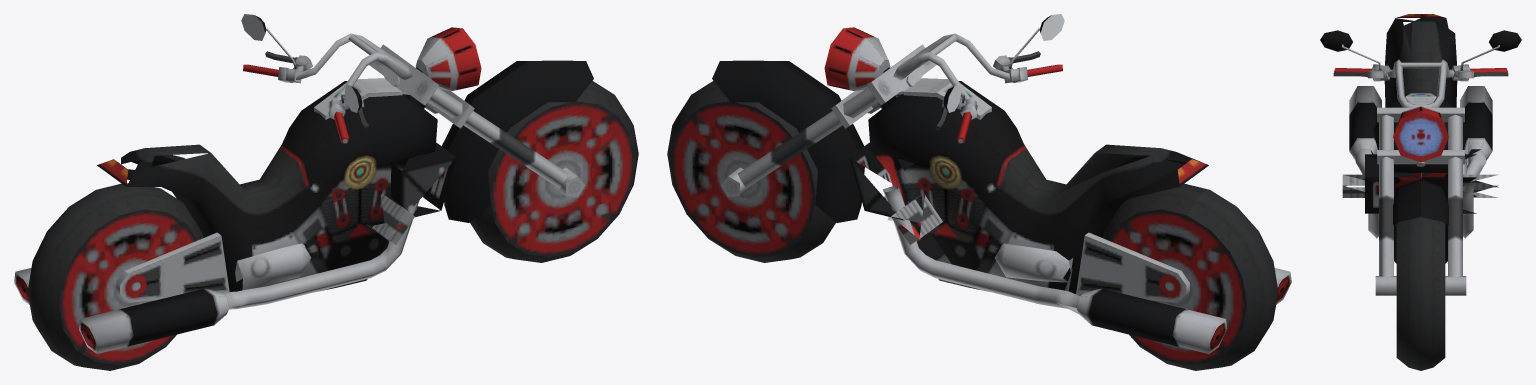
The model's file is bike.glb.
The picture shows the model from 3 angles, left to right: view 1: azimuth 30°, elevation 25°; view 2: azimuth 150°, elevation 25°; view 3: azimuth 270°, elevation 25°; orthographic projection. The views are drawn at different scales.
Parts seen in each view (by area): view 1: Object04, Object06, Object05, Object08, Object07, Object09, Object01; view 2: Object04, Object06, Object05, Object08, Object07, Object09, Object01; view 3: Object04, Object06, Object07, Object01, Object08, Object11, Object09.
Boxes of the visible parts, x1=… form: Object04: x1=14, y1=67, x2=456, y2=353; Object06: x1=470, y1=81, x2=638, y2=262; Object05: x1=27, y1=183, x2=202, y2=370; Object08: x1=442, y1=60, x2=593, y2=222; Object07: x1=369, y1=27, x2=585, y2=197; Object09: x1=116, y1=78, x2=402, y2=302; Object01: x1=241, y1=14, x2=412, y2=143; Object04: x1=849, y1=67, x2=1291, y2=353; Object06: x1=667, y1=81, x2=835, y2=262; Object05: x1=1103, y1=183, x2=1278, y2=370; Object08: x1=712, y1=60, x2=864, y2=222; Object07: x1=720, y1=27, x2=936, y2=197; Object09: x1=903, y1=78, x2=1189, y2=302; Object01: x1=893, y1=14, x2=1064, y2=143; Object04: x1=1342, y1=14, x2=1498, y2=238; Object06: x1=1396, y1=217, x2=1445, y2=370; Object07: x1=1375, y1=106, x2=1466, y2=295; Object01: x1=1320, y1=30, x2=1521, y2=107; Object08: x1=1393, y1=179, x2=1448, y2=263; Object11: x1=1393, y1=112, x2=1448, y2=162; Object09: x1=1405, y1=93, x2=1436, y2=104.
Bounding box in the file's own units: 6.05 × 2.58 × 2.04.
2 materials, 2 textured.
